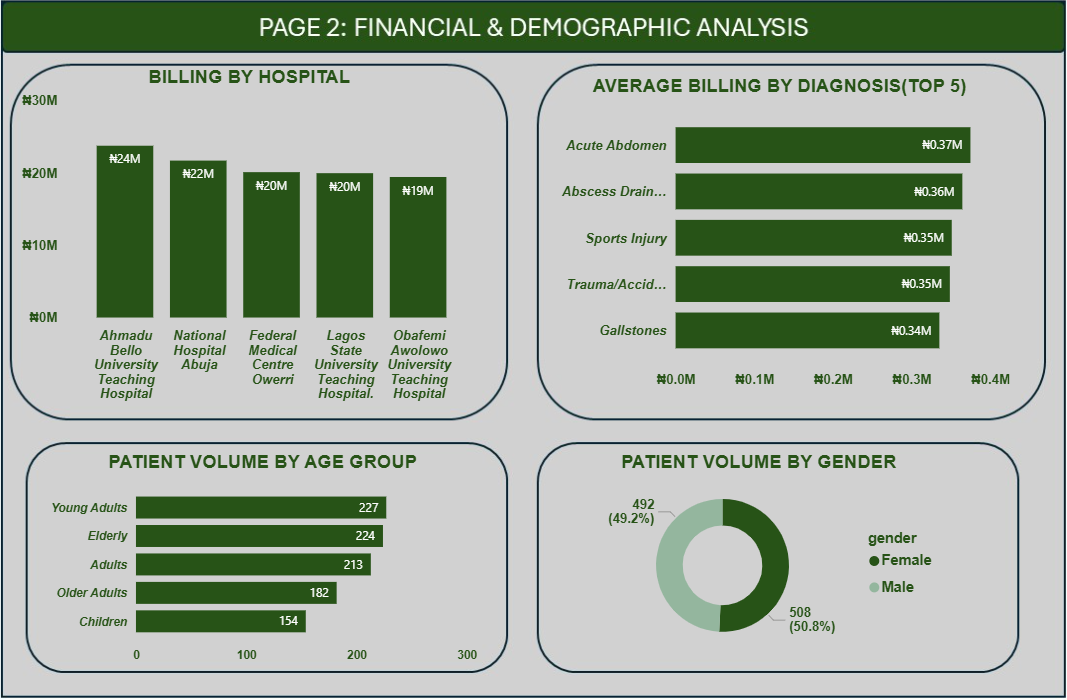

What the dashboard file says about the page in this screenshot:
{"tool":"powerbi","page":{"name":"Page 2","canvas":[1280,720],"ordinal":1},"visuals":[{"type":"clusteredColumnChart","title":"BILLING BY HOSPITAL","fields":{"Y":["Measures (2).Total Billing"],"Category":["Hospital_Patients.hospital_name"]},"box":[25.9,69,470.3,346.6],"z":0},{"type":"clusteredBarChart","title":"AVERAGE  BILLING BY DIAGNOSIS(TOP 5)","fields":{"Category":["Hospital_Patients.patient_diagnosis"],"Y":["Measures (2).Average Billing"]},"box":[558,79.1,474.6,323.6],"z":1000},{"type":"clusteredBarChart","title":"PATIENT VOLUME BY AGE GROUP","fields":{"Category":["Hospital_Patients.Age Group"],"Y":["Measures (2).Total Patients"]},"box":[53.2,458.8,442.9,221.5],"z":2000},{"type":"donutChart","title":"PATIENT VOLUME BY GENDER","fields":{"Category":["Hospital_Patients.gender"],"Y":["Measures (2).Total Patients"]},"box":[585.3,458.8,378.2,208.5],"z":3000}]}

Visuals, with their boxes on the page's 1280x720 design canvas (x1, y1, x2, y2). These are canvas units, not pixel positions in the 1067x700 screenshot, which may show the page scaled, cropped or inside an application window:
"BILLING BY HOSPITAL" clusteredColumnChart: 26/69/496/416
"AVERAGE  BILLING BY DIAGNOSIS(TOP 5)" clusteredBarChart: 558/79/1033/403
"PATIENT VOLUME BY AGE GROUP" clusteredBarChart: 53/459/496/680
"PATIENT VOLUME BY GENDER" donutChart: 585/459/964/667
